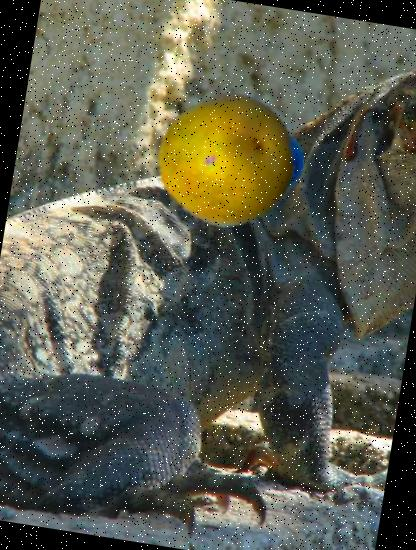Huckleberry: (199, 100, 312, 213)
Maracuja: (149, 81, 307, 239)
